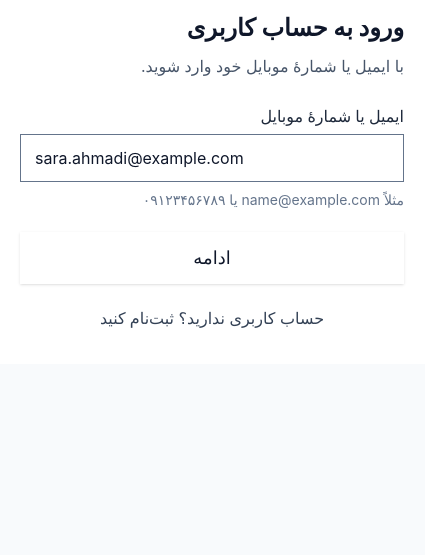
focus after a failure › a failed first send: «ارسال کد» keeps it
Click the button "ادامه" at (212, 258), box [20,232,404,284]
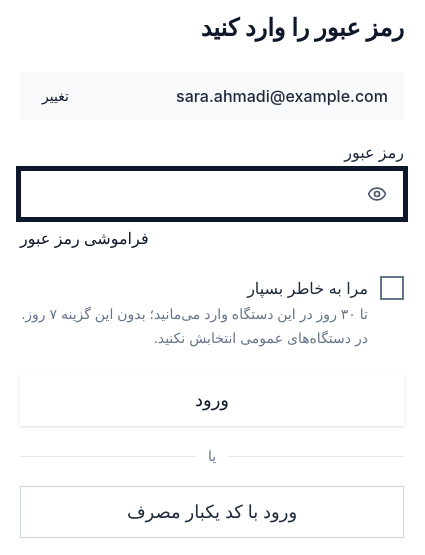
Click the button "ورود با کد یکبار مصرف" at (212, 512), box [20,486,404,538]
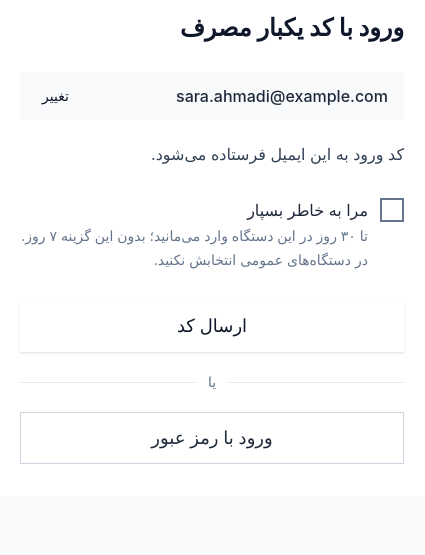
Click the button "ارسال کد" at (212, 326), box [20,300,404,352]
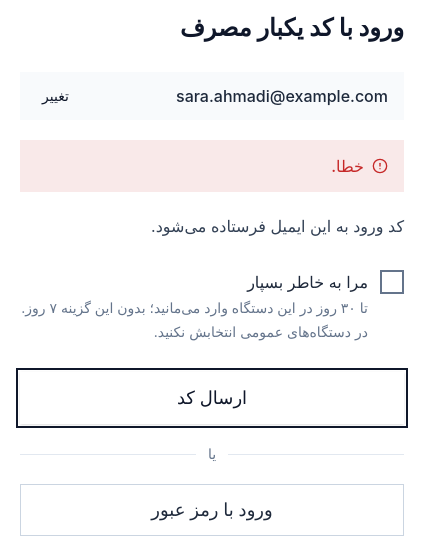
Check: the message "خطا." is shown, box [20,140,404,192]
